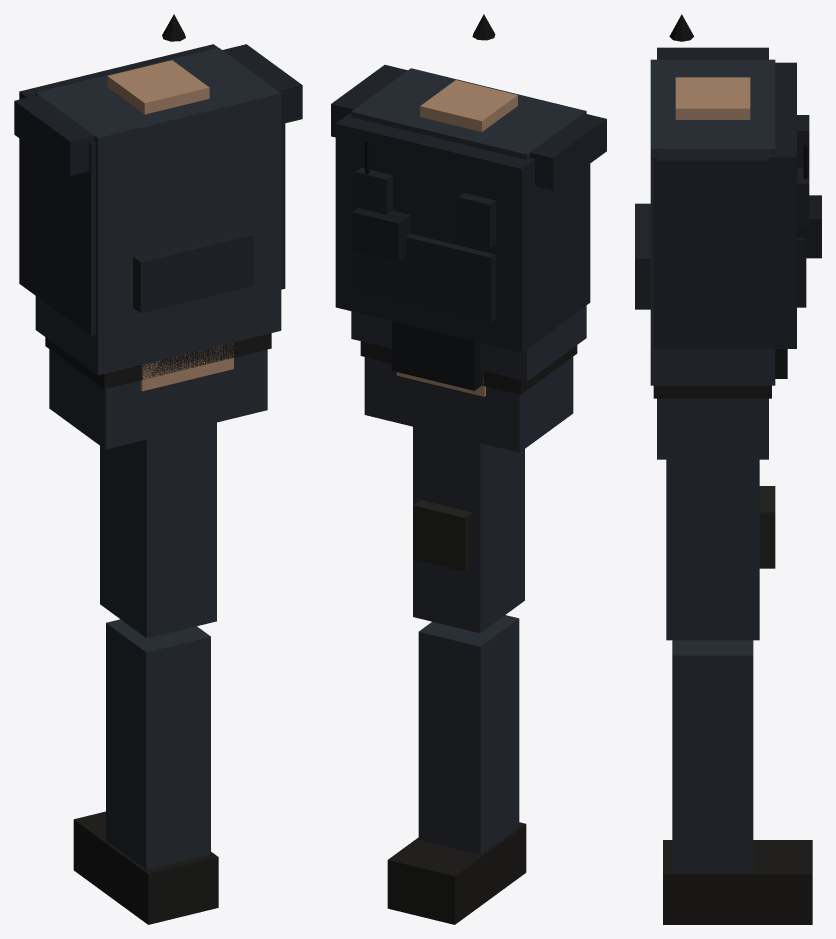
The model's file is operator_mute.glb.
The picture shows the model from 3 angles, left to right: view 1: azimuth 30°, elevation 25°; view 2: azimuth 150°, elevation 25°; view 3: azimuth 270°, elevation 25°; orthographic projection. The views are drawn at different scales.
Parts seen in each view (by area): view 1: torso, legL, hips, head; view 2: torso, legL, hips, head; view 3: torso, legL, hips, head.
Part boxes in pixels (<box>): torso: <box>14,14,302,375</box>; legL: <box>73,422,218,924</box>; hips: <box>45,333,271,449</box>; head: <box>133,229,253,391</box>; torso: <box>331,14,606,381</box>; legL: <box>387,427,526,924</box>; hips: <box>360,341,577,452</box>; head: <box>392,321,485,396</box>; torso: <box>650,14,821,385</box>; legL: <box>663,459,812,924</box>; hips: <box>653,385,771,459</box>; head: <box>635,203,787,378</box>.
Bounding box in the file's own units: 0.43 × 1.58 × 0.3.
